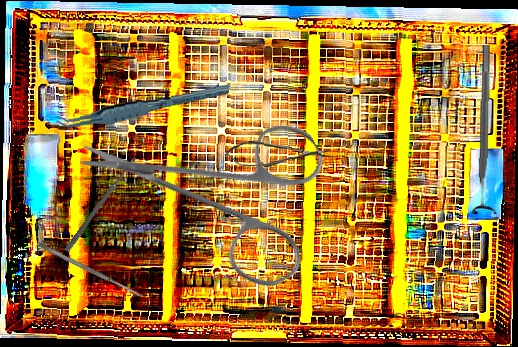Fixation Ring: (470, 44, 501, 215)
Iris Scissors: (75, 45, 367, 339)
Micro Scissor: (224, 140, 332, 169)
Spatula Surgical: (36, 240, 143, 300)
Surgical Spoon: (64, 155, 138, 253)
Tissue Forceps: (53, 83, 232, 130)
